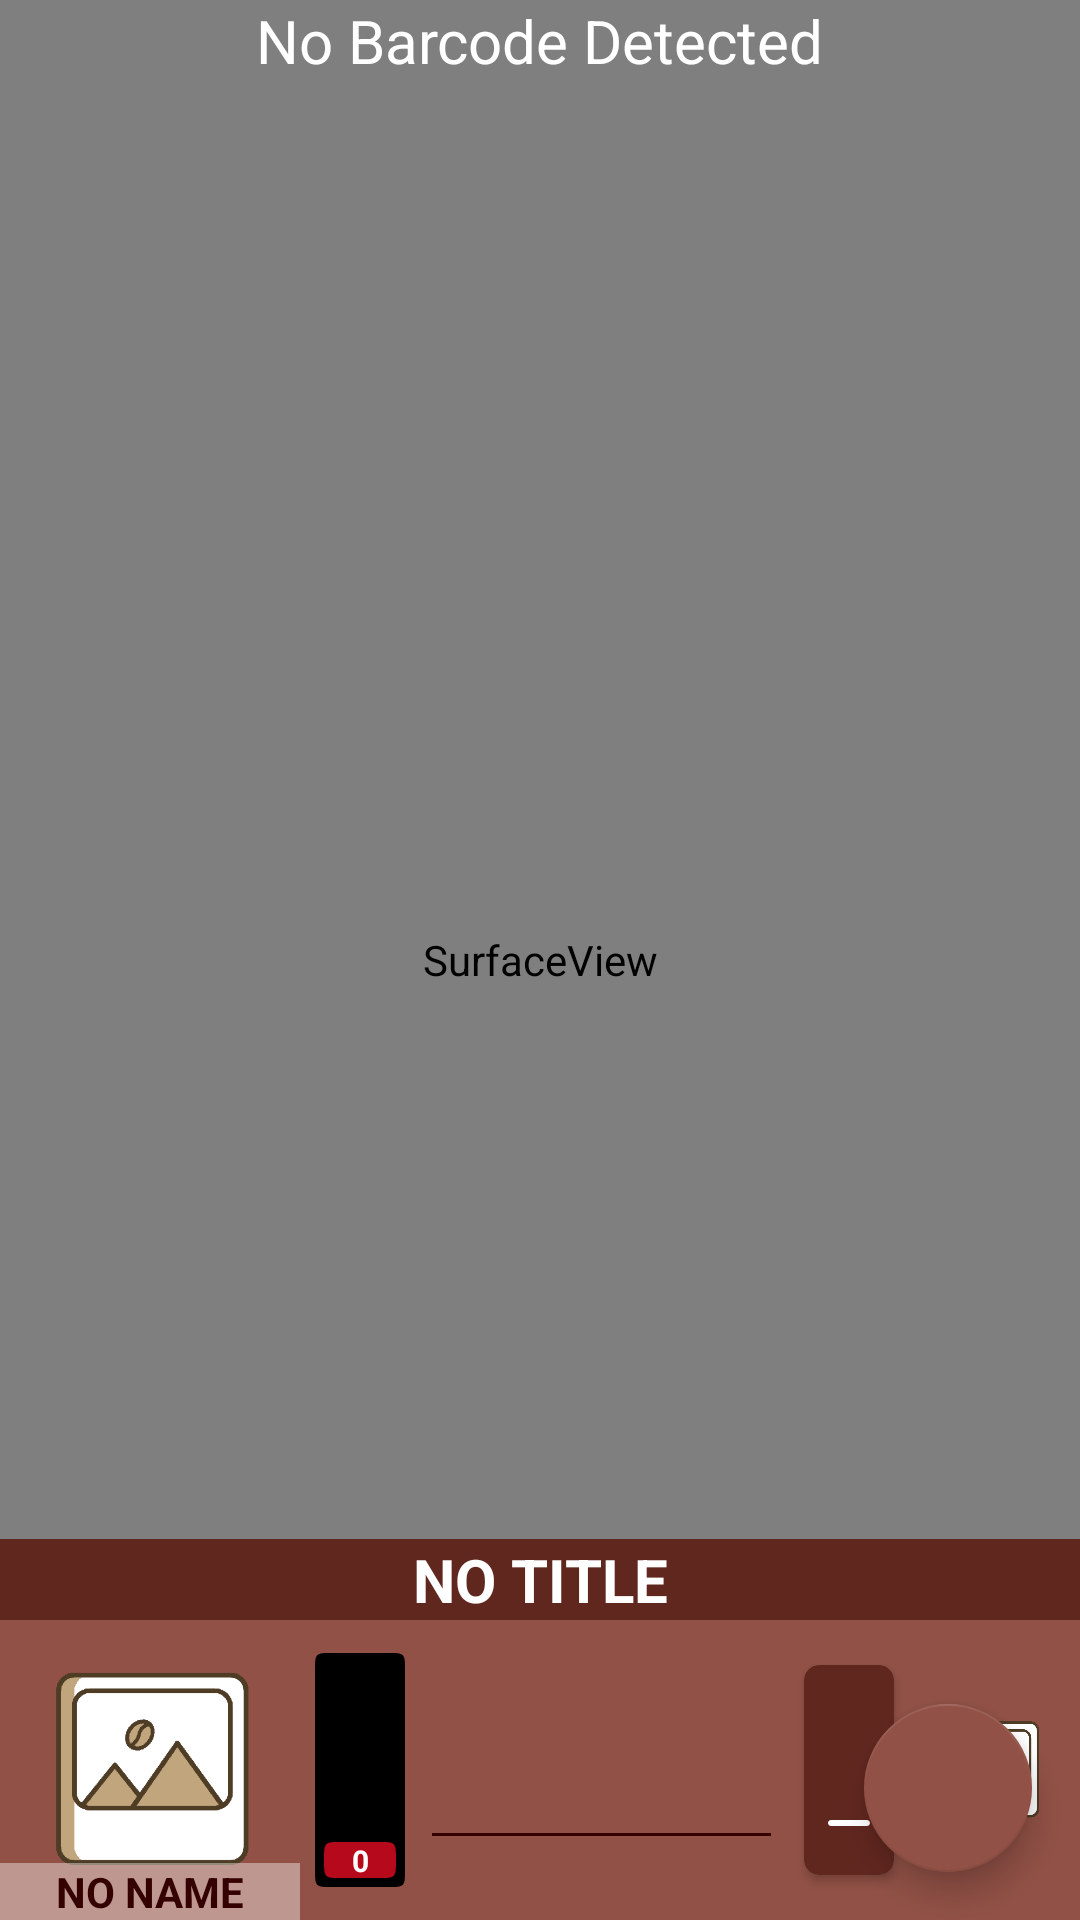

Icon bounding boxes for this 1080x1920 phone screenshot, format [x1,y1,x2,y2]:
remove: [804,1770,894,1875]
